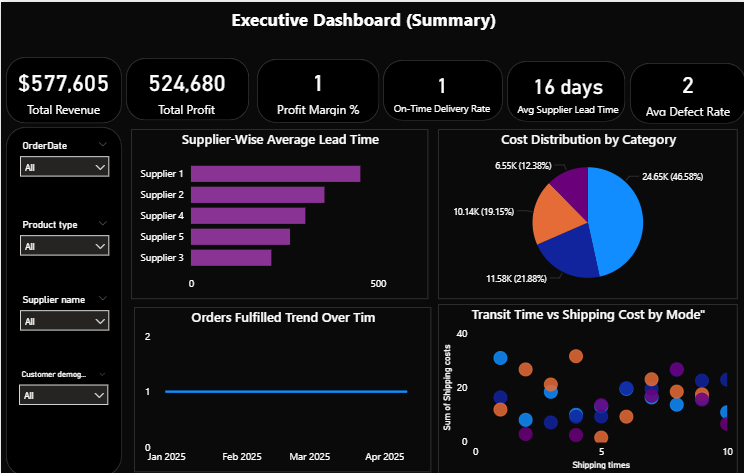

This screenshot's page, from the dashboard's own definition file:
{"tool":"powerbi","page":{"name":" Dashboard 6","canvas":[919,586],"ordinal":5},"visuals":[{"type":"shape","box":[154,69,152,77],"z":0},{"type":"card","fields":{"Values":["complete_supply_chain_data.Total Profit"]},"box":[156,70,147,77],"z":1000},{"type":"shape","box":[6,68,143,82],"z":2000},{"type":"shape","box":[316,70,151,79],"z":3000},{"type":"card","fields":{"Values":["complete_supply_chain_data.Total Revenue"]},"box":[6,71,142,74],"z":4000},{"type":"card","fields":{"Values":["complete_supply_chain_data.Profit Margin %"]},"box":[319,71,146,74],"z":5000},{"type":"barChart","title":"Supplier-Wise Average Lead Time","fields":{"Category":["complete_supply_chain_data.Supplier name"],"Y":["Sum(complete_supply_chain_data.Lead Time (Supplier))"]},"box":[161,157,367,210],"z":6000},{"type":"textbox","box":[232,1,432,71],"z":7000},{"type":"pieChart","title":"Cost Distribution by Category","fields":{"Category":["complete_supply_chain_data.CostType"],"Y":["Sum(complete_supply_chain_data.Costs)"]},"box":[539,157,370,210],"z":8000},{"type":"shape","box":[471,72,148,75],"z":9000},{"type":"card","fields":{"Values":["complete_supply_chain_data.On-Time Delivery Rate"]},"box":[473,75,143,69],"z":10000},{"type":"shape","box":[625,73,146,75],"z":11000},{"type":"shape","box":[776,75,143,75],"z":12000},{"type":"card","fields":{"Values":["complete_supply_chain_data.Avg Supplier Lead Time"]},"box":[629,76,143,69],"z":13000},{"type":"card","fields":{"Values":["complete_supply_chain_data.Avg Defect Rate"]},"box":[776,77,143,69],"z":14000},{"type":"shape","box":[6,154,143,431],"z":15000},{"type":"slicer","fields":{"Values":["complete_supply_chain_data.OrderDate"]},"box":[13,166,130,66],"z":16000},{"type":"slicer","fields":{"Values":["complete_supply_chain_data.Product type"]},"box":[13,263,130,66],"z":17000},{"type":"slicer","fields":{"Values":["complete_supply_chain_data.Supplier name"]},"box":[13,355,130,66],"z":18000},{"type":"slicer","fields":{"Values":["complete_supply_chain_data.Customer demographics"]},"box":[12,449,130,66],"z":19000},{"type":"lineChart","title":"Orders Fulfilled Trend Over Tim","fields":{"Category":["complete_supply_chain_data.OrderDate"],"Y":["complete_supply_chain_data.Orders Fulfilled"]},"box":[164,376,367,204],"z":20000},{"type":"scatterChart","title":"Transit Time vs Shipping Cost by Mode\"","fields":{"X":["complete_supply_chain_data.Shipping times"],"Series":["complete_supply_chain_data.Transportation modes"],"Y":["Sum(complete_supply_chain_data.Shipping costs)"]},"box":[539,373,370,210],"z":21000}]}

Visuals, with their boxes in screenshot pixels (x1, y1, x2, y2), scaled from the page's 919x586 canvas onto the 744x473 screenshot:
shape: bbox=(125, 56, 248, 118)
card - complete_supply_chain_data.Total Profit: bbox=(126, 57, 245, 119)
shape: bbox=(5, 55, 121, 121)
shape: bbox=(256, 57, 378, 120)
card - complete_supply_chain_data.Total Revenue: bbox=(5, 57, 120, 117)
card - complete_supply_chain_data.Profit Margin %: bbox=(258, 57, 376, 117)
"Supplier-Wise Average Lead Time" barChart: bbox=(130, 127, 427, 296)
textbox: bbox=(188, 1, 538, 58)
"Cost Distribution by Category" pieChart: bbox=(436, 127, 736, 296)
shape: bbox=(381, 58, 501, 119)
card - complete_supply_chain_data.On-Time Delivery Rate: bbox=(383, 61, 499, 116)
shape: bbox=(506, 59, 624, 119)
shape: bbox=(628, 61, 743, 121)
card - complete_supply_chain_data.Avg Supplier Lead Time: bbox=(509, 61, 625, 117)
card - complete_supply_chain_data.Avg Defect Rate: bbox=(628, 62, 743, 118)
shape: bbox=(5, 124, 121, 472)
slicer - complete_supply_chain_data.OrderDate: bbox=(11, 134, 116, 187)
slicer - complete_supply_chain_data.Product type: bbox=(11, 212, 116, 266)
slicer - complete_supply_chain_data.Supplier name: bbox=(11, 287, 116, 340)
slicer - complete_supply_chain_data.Customer demographics: bbox=(10, 362, 115, 416)
"Orders Fulfilled Trend Over Tim" lineChart: bbox=(133, 303, 430, 468)
"Transit Time vs Shipping Cost by Mode"" scatterChart: bbox=(436, 301, 736, 471)
